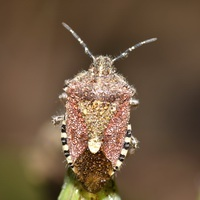insect: (53, 23, 156, 199)
